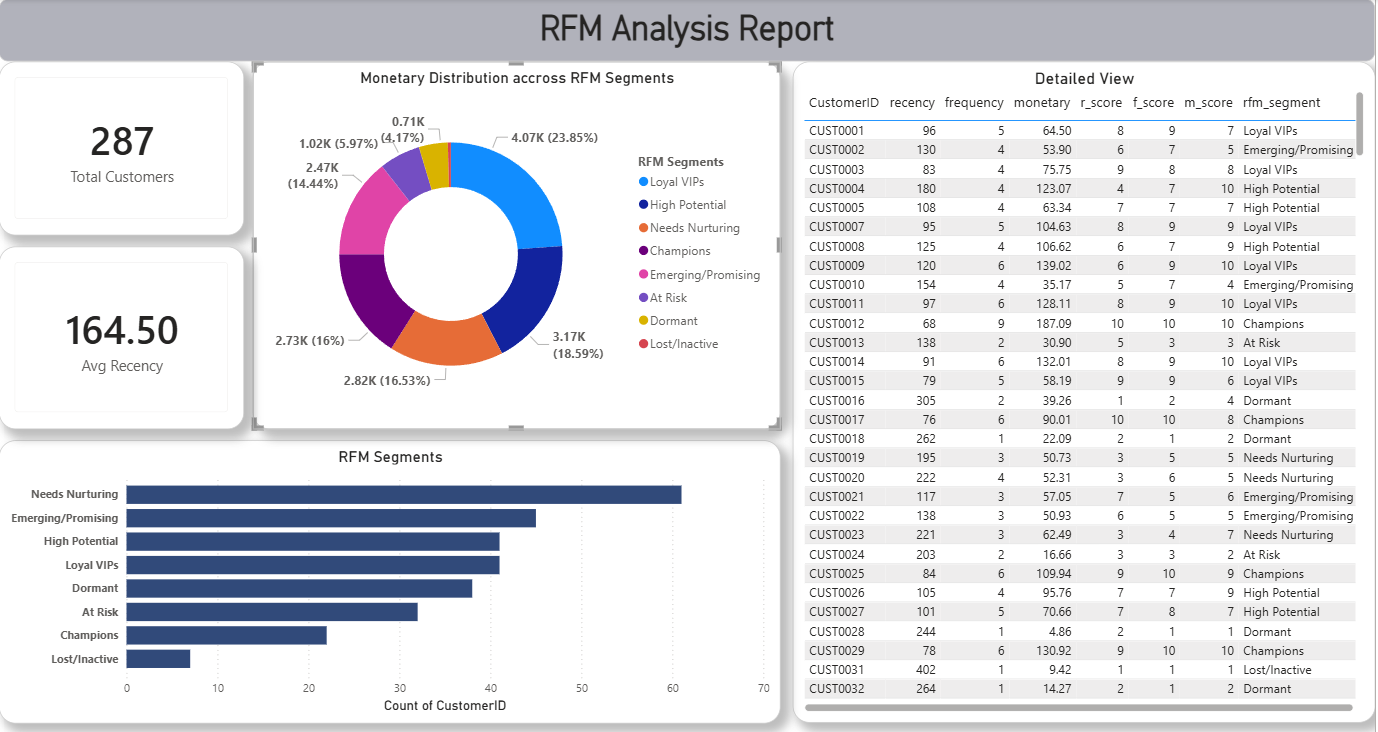

The dashboard page shown, as its layout file describes it:
{"tool":"powerbi","page":{"name":"Page 1","canvas":[1500,800],"ordinal":0},"visuals":[{"type":"tableEx","title":"Detailed View","fields":{"Values":["Query1.CustomerID","Query1.recency","Query1.frequency","Query1.monetary","Query1.r_score","Query1.f_score","Query1.m_score","Query1.rfm_segment"]},"box":[865.3,68.1,635,720.8],"z":0},{"type":"clusteredBarChart","title":"RFM Segments","fields":{"Category":["Query1.rfm_segment"],"Y":["CountNonNull(Query1.CustomerID)"]},"box":[0,480.8,852.3,308.7],"z":1000},{"type":"cardVisual","fields":{"Data":["Query1.Total Customers"]},"box":[0,68.1,267.1,189.4],"z":2000},{"type":"donutChart","title":"Monetary Distribution accross RFM Segments","fields":{"Y":["Sum(Query1.monetary)"],"Category":["Query1.rfm_segment"]},"box":[276.6,68.1,575,400.6],"z":3000},{"type":"cardVisual","fields":{"Data":["Query1.Avg Recency"]},"box":[0,269.8,267.1,198.9],"z":3001},{"type":"textbox","box":[0,0,1500.3,68.1],"z":3002}]}

Visuals, with their boxes in screenshot pixels (x1, y1, x2, y2), scaled from the page's 1500x800 canvas onto the 1378x732 screenshot:
"Detailed View" tableEx: rect(795, 62, 1377, 722)
"RFM Segments" clusteredBarChart: rect(0, 440, 783, 722)
cardVisual - Query1.Total Customers: rect(0, 62, 245, 236)
"Monetary Distribution accross RFM Segments" donutChart: rect(254, 62, 782, 429)
cardVisual - Query1.Avg Recency: rect(0, 247, 245, 429)
textbox: rect(0, 0, 1377, 62)
